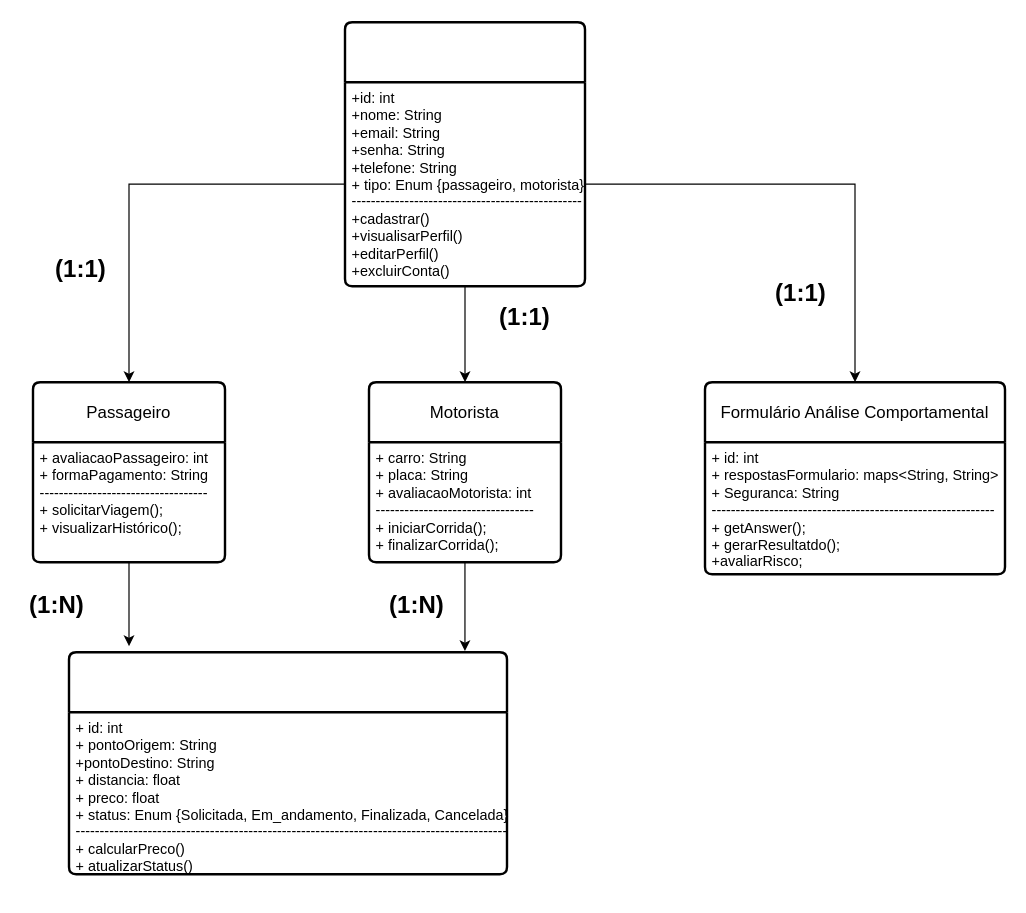
The diagram is 1026 pixels wide and 913 high, and some of its shapes have lost their labels. The box of each missing label's shape, as (x1, y1, x2, y2) in pixels:
Usuario: (343, 20, 586, 287)
Viagem: (67, 650, 508, 875)
